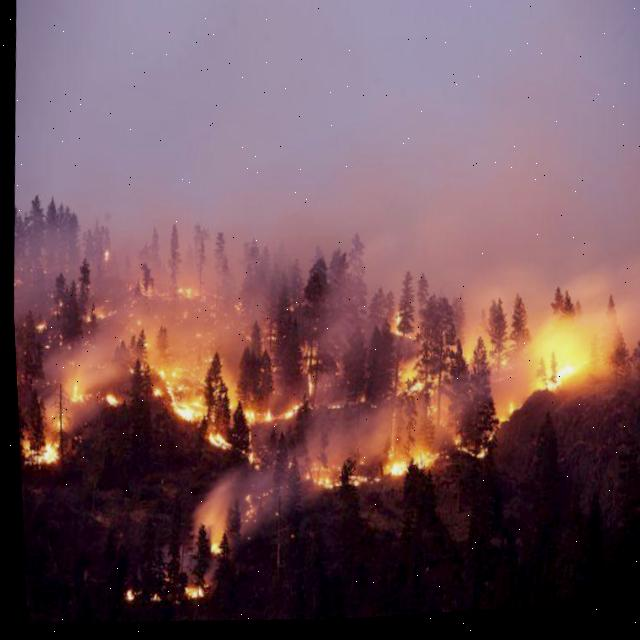fire: (152, 367, 226, 424), (533, 346, 598, 401), (384, 445, 434, 484)
smoke: (16, 171, 640, 503)
